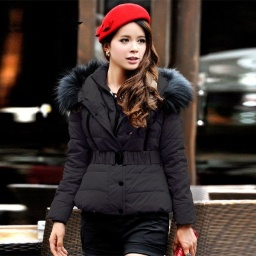face: (99, 18, 160, 86)
